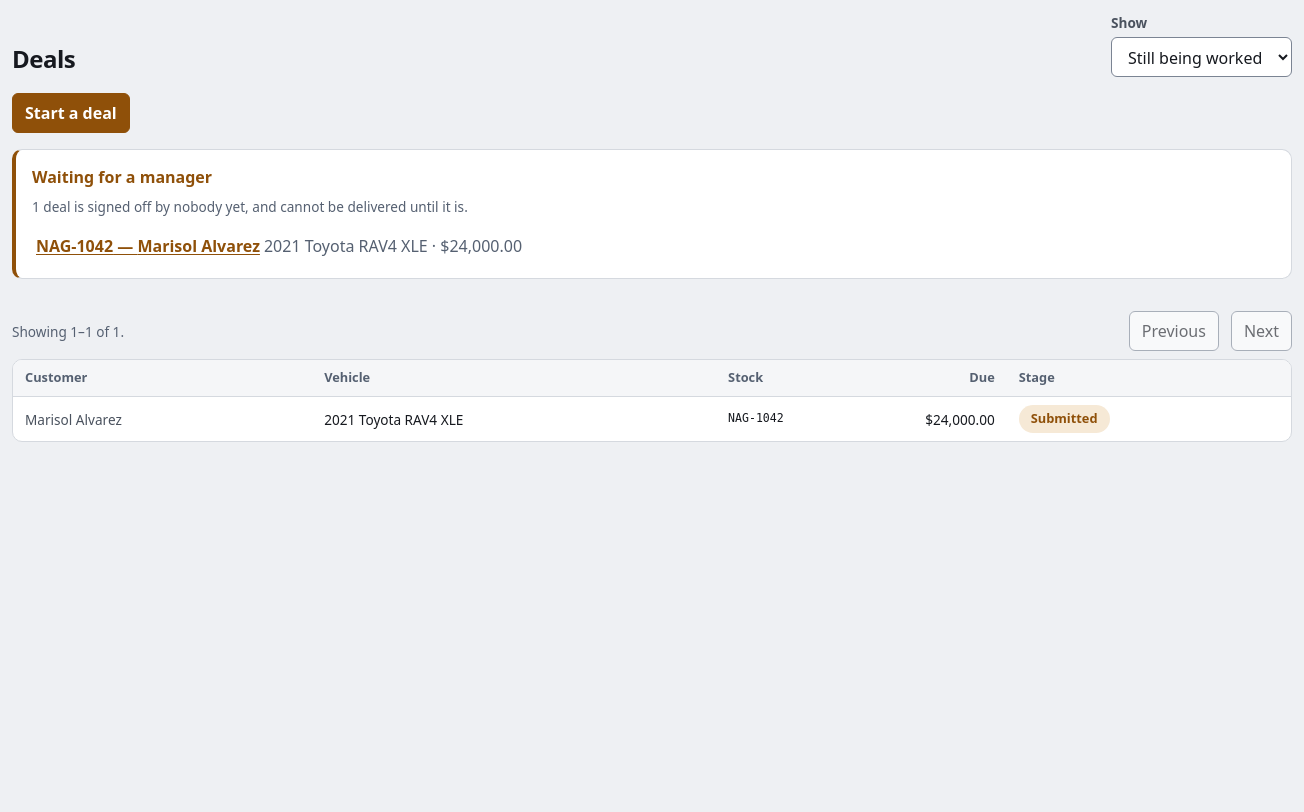
Test: once a deal is submitted › the editor is gone, not merely disabled
The width and height of the screenshot is (1304, 812).
Click the button "Marisol Alvarez" at [73, 419], box [25, 407, 300, 431]
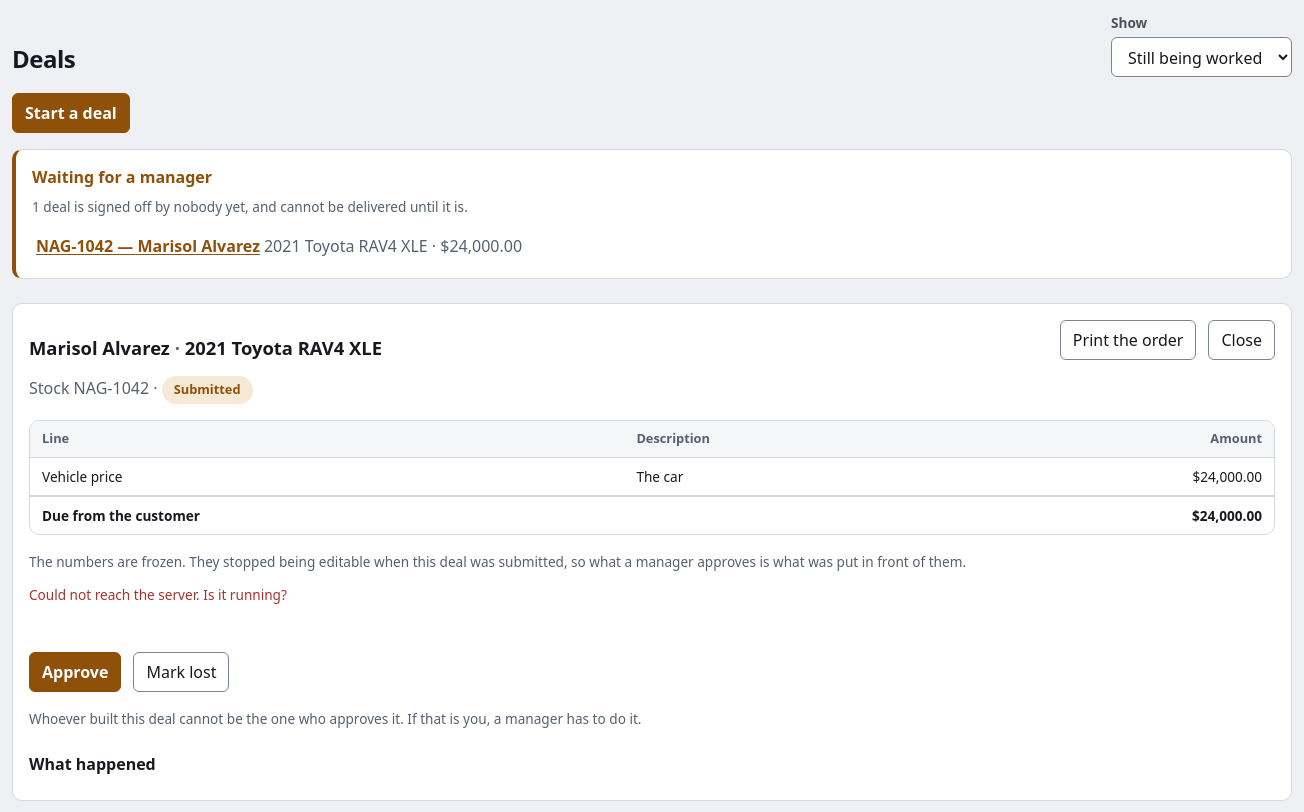
Expected: the text "numbers are frozen" is shown, [29, 552, 966, 571]
